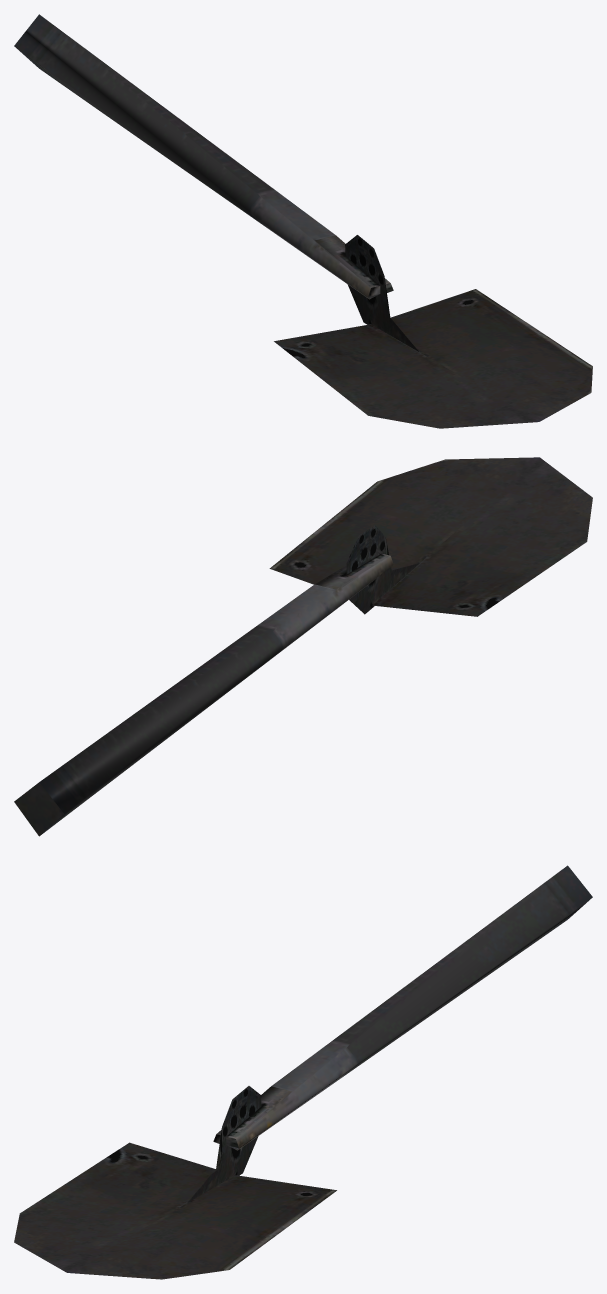
The model's file is Pickup_WeaponJq01.glb.
3 views of the same model, one above another, from view 1: azimuth 30°, elevation 25°; view 2: azimuth 150°, elevation 25°; view 3: azimuth 330°, elevation 25° (orthographic).
Parts seen in each view (by area): view 1: pk_weapon_jq_01; view 2: pk_weapon_jq_01; view 3: pk_weapon_jq_01.
Part boxes in pixels (bbox=[...]): pk_weapon_jq_01: bbox=[14, 14, 592, 428]; pk_weapon_jq_01: bbox=[14, 457, 592, 836]; pk_weapon_jq_01: bbox=[14, 865, 592, 1279].
Size of the model in its own units: 0.1722 by 0.0631 by 0.6869.
1 material, 1 textured.
